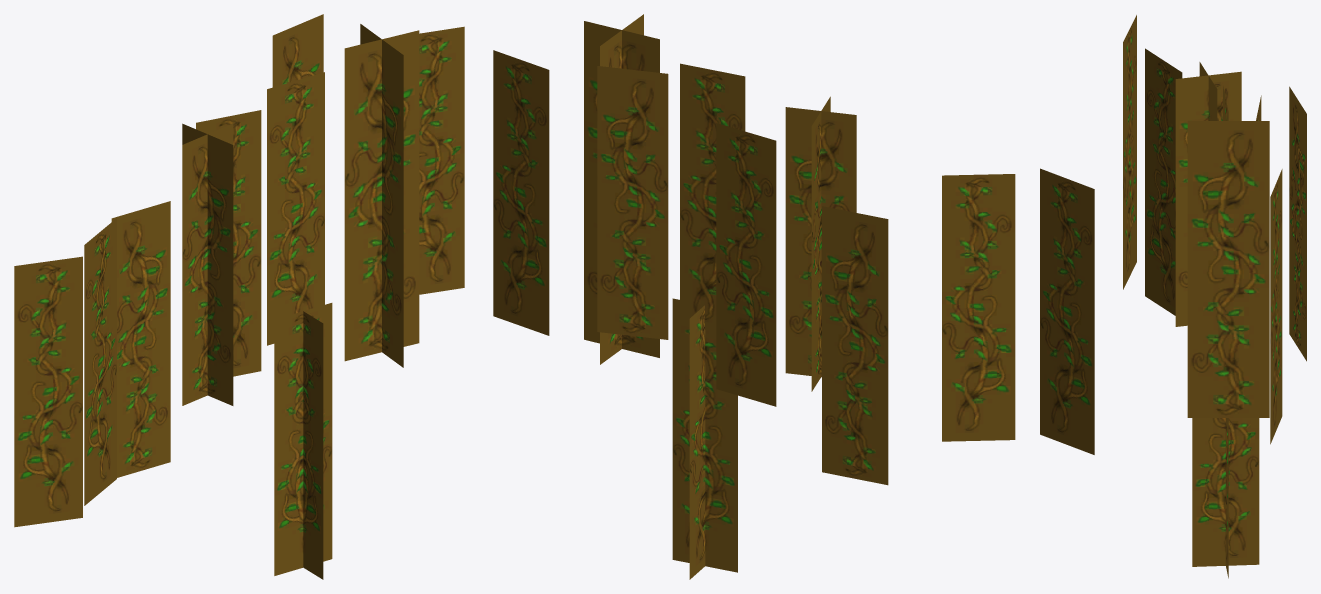
The model's file is EKH_GROTTO_PS_GR_VINES74635__GX.fbx.
The picture shows the model from 3 angles, left to right: view 1: azimuth 30°, elevation 25°; view 2: azimuth 150°, elevation 25°; view 3: azimuth 270°, elevation 25°; orthographic projection. The views are drawn at different scales.
Visible parts, largest first — view 1: EKH_GROTTO_PS_GR_VINES74635__GX; view 2: EKH_GROTTO_PS_GR_VINES74635__GX; view 3: EKH_GROTTO_PS_GR_VINES74635__GX.
Boxes of the visible parts, x1,y1,x2,y2 form: EKH_GROTTO_PS_GR_VINES74635__GX: (14, 14, 464, 579); EKH_GROTTO_PS_GR_VINES74635__GX: (493, 14, 1094, 579); EKH_GROTTO_PS_GR_VINES74635__GX: (1123, 15, 1306, 578).
Bounding box in the file's own units: 57510 × 53630 × 18554.
Materials: 1 (1 with a texture image).
